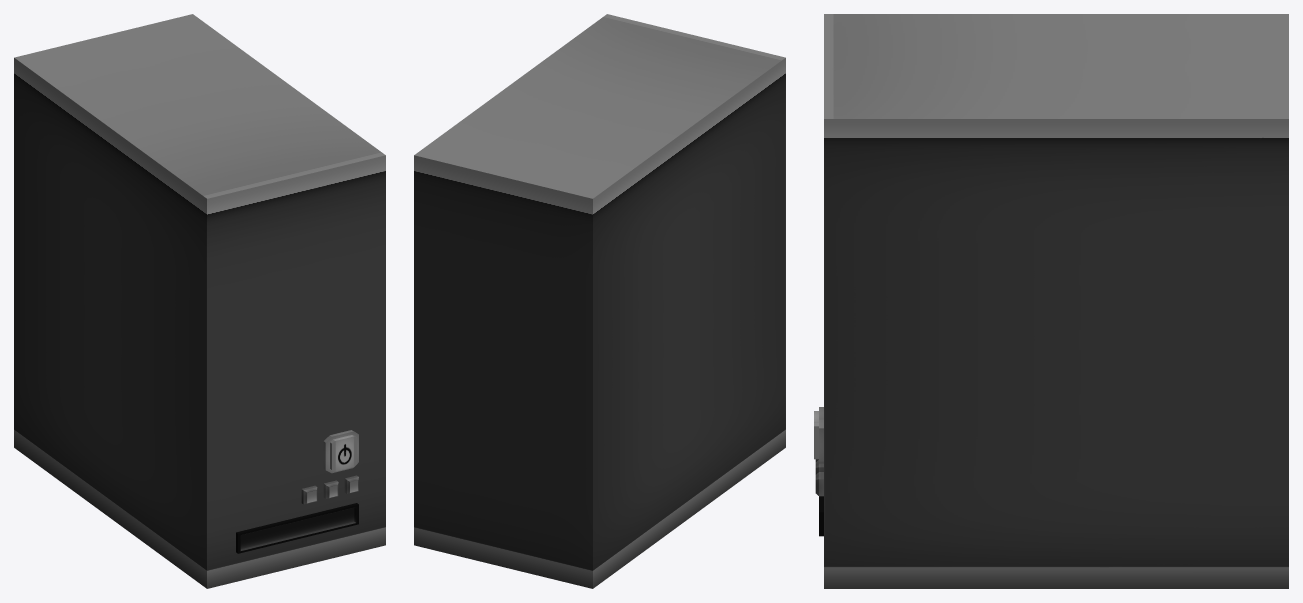
The picture shows the model from 3 angles, left to right: view 1: azimuth 30°, elevation 25°; view 2: azimuth 150°, elevation 25°; view 3: azimuth 270°, elevation 25°; orthographic projection. The views are drawn at different scales.
Parts seen in each view (by area): view 1: pc00; view 2: pc00; view 3: pc00.
Boxes of the visible parts, x1,y1,x2,y2 form: pc00: (14,14,385,588); pc00: (414,14,785,588); pc00: (814,14,1288,588).
Bounding box in the file's own units: 10 × 20.86 × 19.11.
Materials: 1 (1 with a texture image).
